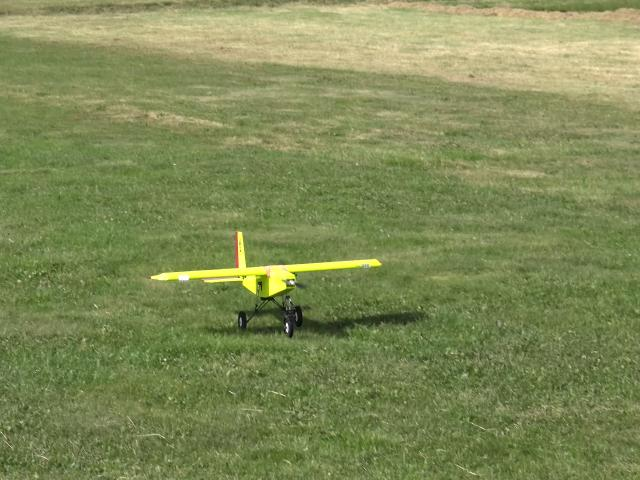plane: (149, 229, 382, 333)
